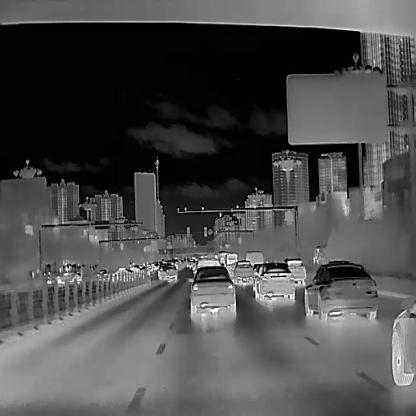car: (304, 259, 378, 321), (189, 265, 236, 315), (392, 303, 416, 385), (254, 262, 295, 301), (284, 257, 306, 284), (232, 259, 253, 284), (194, 258, 219, 274), (55, 272, 82, 284), (112, 267, 135, 281), (244, 250, 262, 266), (225, 252, 238, 266), (157, 263, 167, 279), (166, 264, 177, 278), (312, 246, 320, 264)
